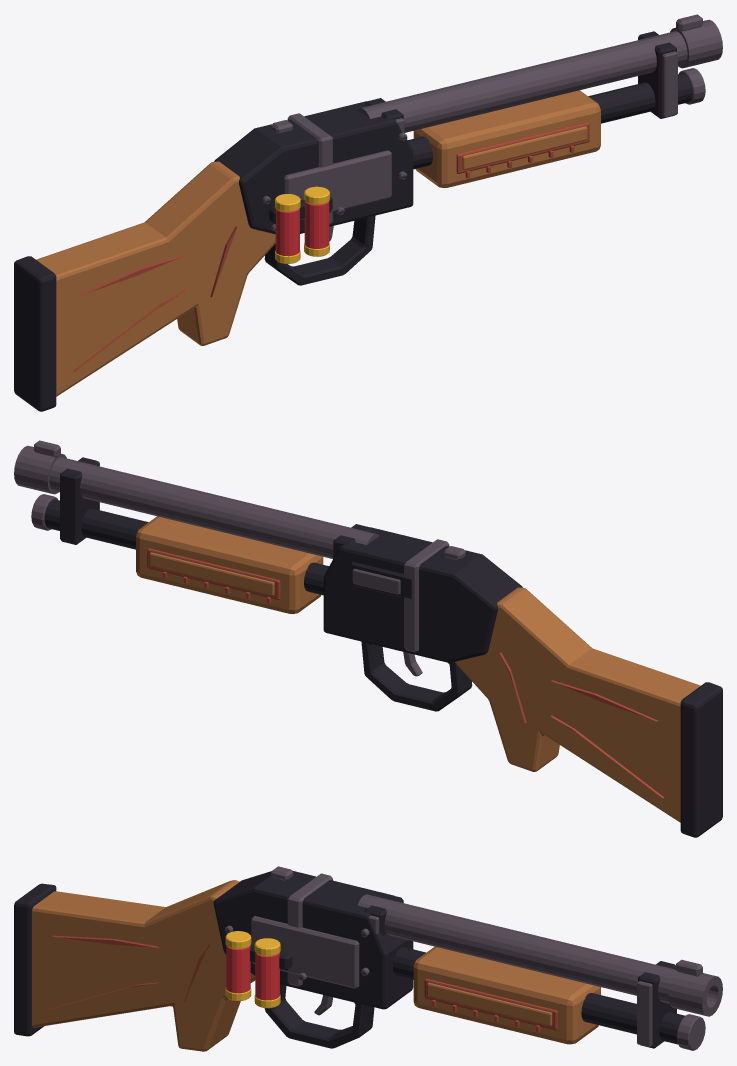
Rendered from wpn.shotgun.glb.
3 renders of one model, top to bottom at view 1: azimuth 30°, elevation 25°; view 2: azimuth 150°, elevation 25°; view 3: azimuth 330°, elevation 25°, orthographic.
Bounding box in the file's own units: 1.22 × 0.3804 × 0.154.
